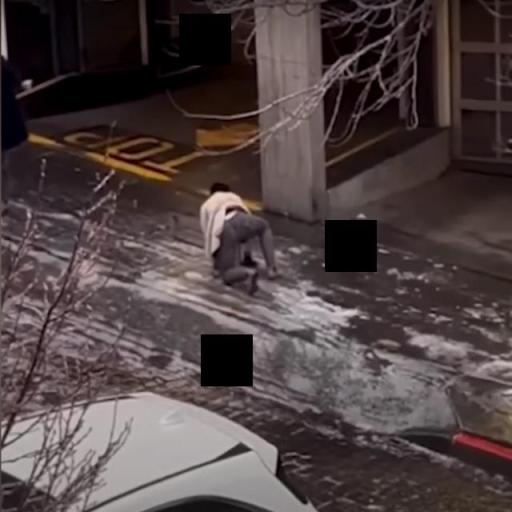Fall: (194, 179, 287, 298)
